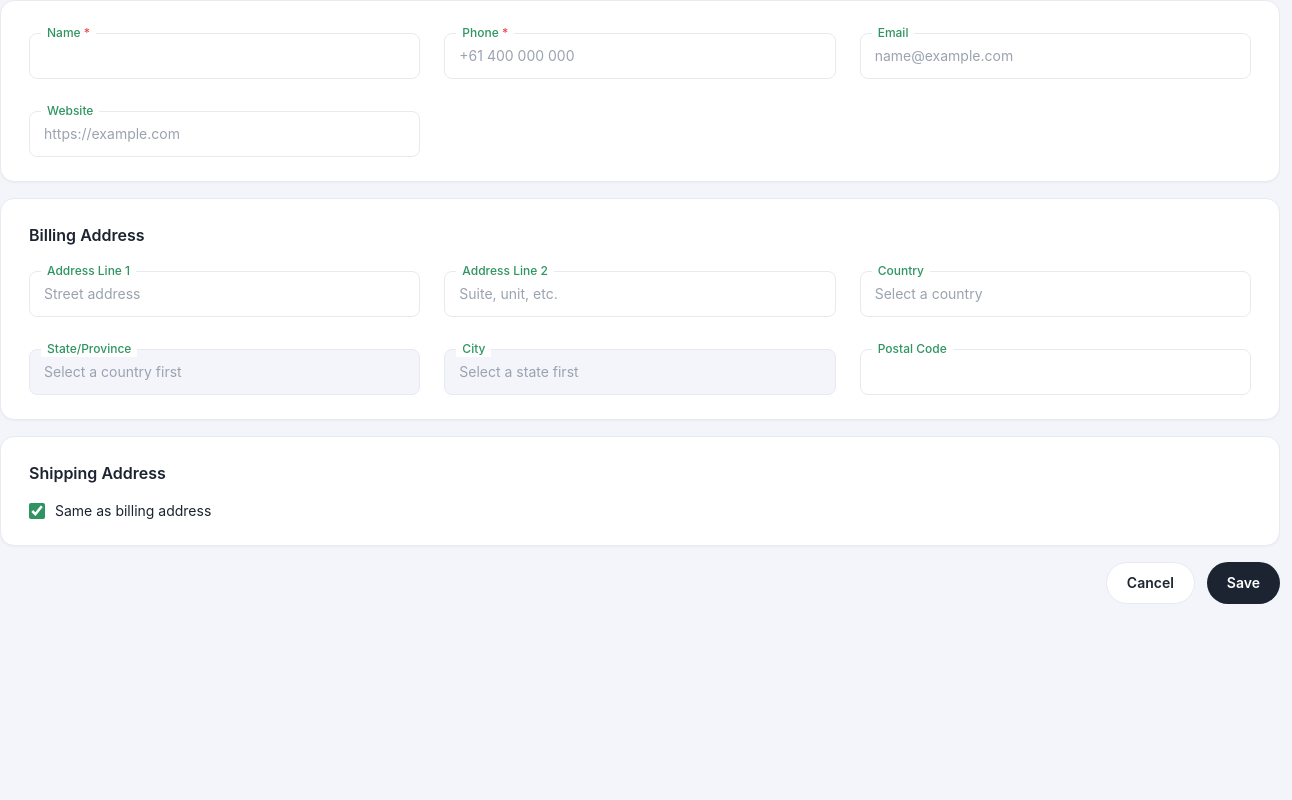
Scenario: CompanyForm (spec 2.8.1) › blocks submit and shows the required-field messages
Step 1. Click the button "Save" → (1243, 583), box [1207,562,1280,604]
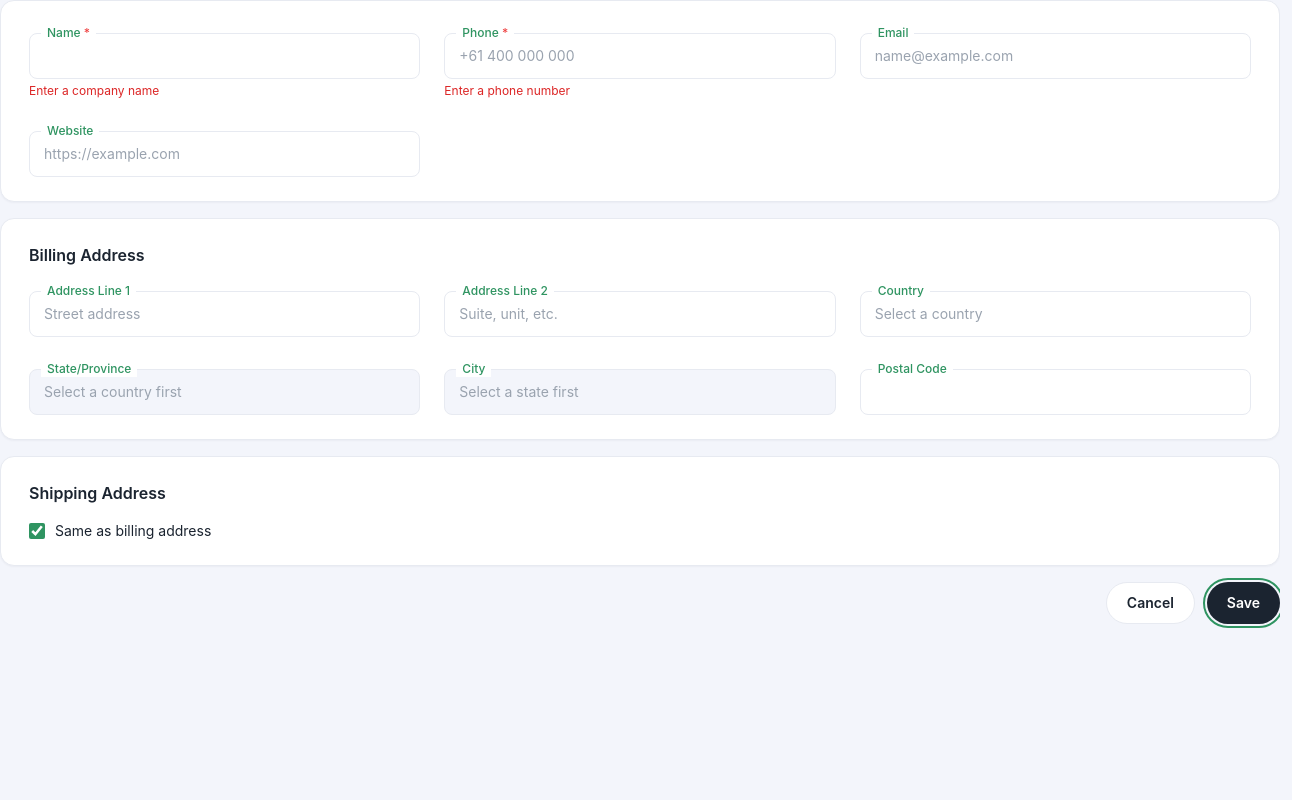
Now the text "Enter a company name" is shown, box [29,83,159,98]
Now the text "Enter a phone number" is shown, box [444,83,570,98]
